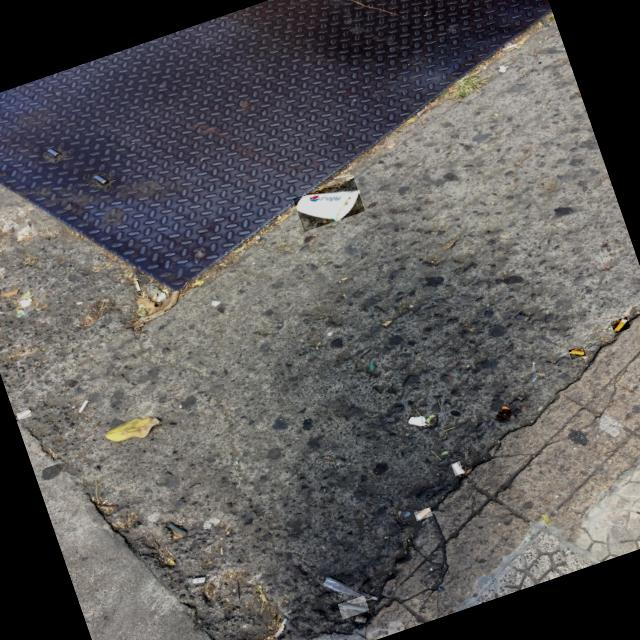Cigarette: (415, 507, 431, 520), (613, 318, 628, 331), (78, 400, 89, 413), (452, 462, 463, 474), (17, 409, 30, 419), (570, 349, 585, 356), (134, 280, 142, 292)
Cup: (297, 190, 359, 220)
Other plastic bottle: (323, 577, 377, 600), (340, 602, 368, 611)
Unlabeled litter: (408, 415, 426, 426)
